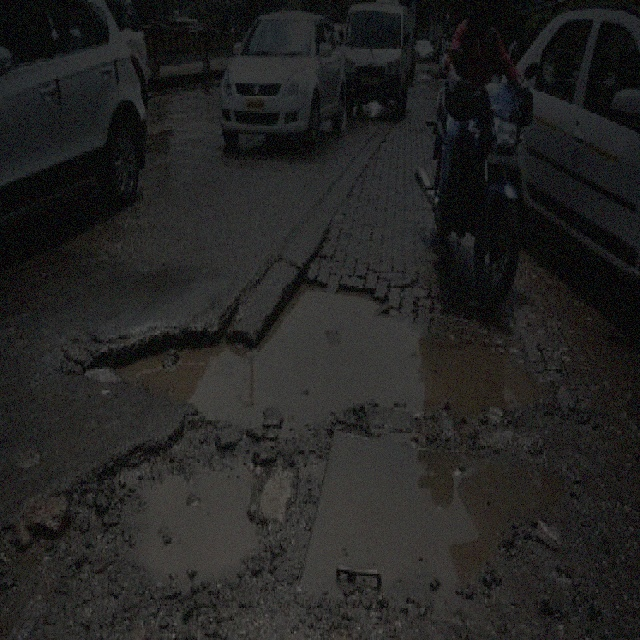pothole: (74, 262, 546, 420), (296, 418, 570, 602), (95, 418, 272, 587)
